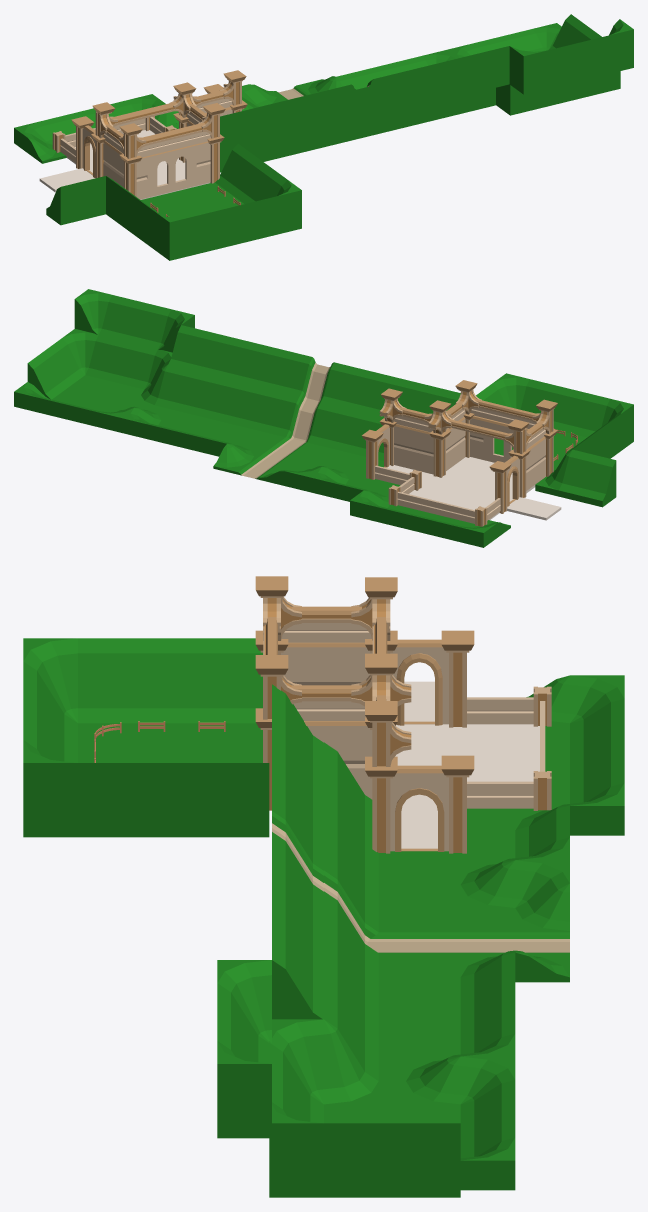
Rendered from ML_PrototypeLevelB.fbx.
3 renders of one model, top to bottom at view 1: azimuth 30°, elevation 25°; view 2: azimuth 150°, elevation 25°; view 3: azimuth 270°, elevation 25°, orthographic. The views are drawn at different scales.
Parts seen in each view (by area): view 1: grass_hill_side_189, grass_hill_side_188, grass_hill_side_210, grass_hill_side_208, grass_hill_side_21, grass_hill_side_193, grass_198, grass_hill_side_219, grass_hill_side_212, grass_hill_corner_inner_192, grass_hill_side_36, grass_hill_corner_inner_211 (+27 smaller); view 2: grass_hill_side_21, grass_hill_side_189, grass_hill_side_188, 1_floor_51, grass_hill_side_210, grass_hill_side_5, grass_hill_side_36, grass_hill_side_219, grass_hill_side_193, grass_hill_side_8, grass_4, 2_wall_etched_side_46 (+45 smaller); view 3: grass_hill_side_212, grass_hill_side_208, grass_hill_side_8, grass_hill_side_189, grass_hill_side_21, grass_198, 1_floor_51, grass_hill_side_36, grass_34, grass_hill_side_188, grass_24, grass_hill_side_37 (+47 smaller).
Boxes of the visible parts, x1,y1,x2,y2 form: grass_hill_side_189: [374, 46, 509, 116]; grass_hill_side_188: [220, 85, 350, 154]; grass_hill_side_210: [193, 196, 277, 254]; grass_hill_side_208: [215, 143, 287, 203]; grass_hill_side_21: [361, 87, 495, 137]; grass_hill_side_193: [548, 35, 609, 88]; grass_198: [141, 182, 244, 217]; grass_hill_side_219: [46, 176, 105, 225]; grass_hill_side_212: [106, 176, 158, 249]; grass_hill_corner_inner_192: [509, 46, 548, 94]; grass_hill_side_36: [220, 126, 336, 172]; grass_hill_corner_inner_211: [155, 212, 193, 260]; grass_hill_side_21: [155, 364, 298, 436]; grass_hill_side_189: [168, 325, 310, 395]; grass_hill_side_188: [322, 362, 460, 416]; 1_floor_51: [409, 457, 535, 520]; grass_hill_side_210: [520, 379, 609, 437]; grass_hill_side_5: [85, 334, 157, 389]; grass_hill_side_36: [308, 402, 384, 460]; grass_hill_side_219: [559, 449, 616, 507]; grass_hill_side_193: [99, 295, 170, 348]; grass_hill_side_8: [27, 338, 84, 399]; grass_4: [52, 375, 144, 412]; 2_wall_etched_side_46: [394, 426, 433, 474]; grass_hill_side_212: [78, 638, 262, 723]; grass_hill_side_208: [78, 763, 269, 837]; grass_hill_side_8: [324, 1123, 460, 1197]; grass_hill_side_189: [272, 833, 323, 1019]; grass_hill_side_21: [324, 892, 378, 1080]; grass_198: [78, 723, 262, 762]; 1_floor_51: [395, 724, 539, 808]; grass_hill_side_36: [324, 742, 378, 930]; grass_34: [378, 851, 460, 931]; grass_hill_side_188: [272, 684, 323, 869]; grass_24: [406, 954, 460, 1058]; grass_hill_side_37: [570, 698, 624, 803].
Bounding box in the file's own units: 457 × 62 × 220.
